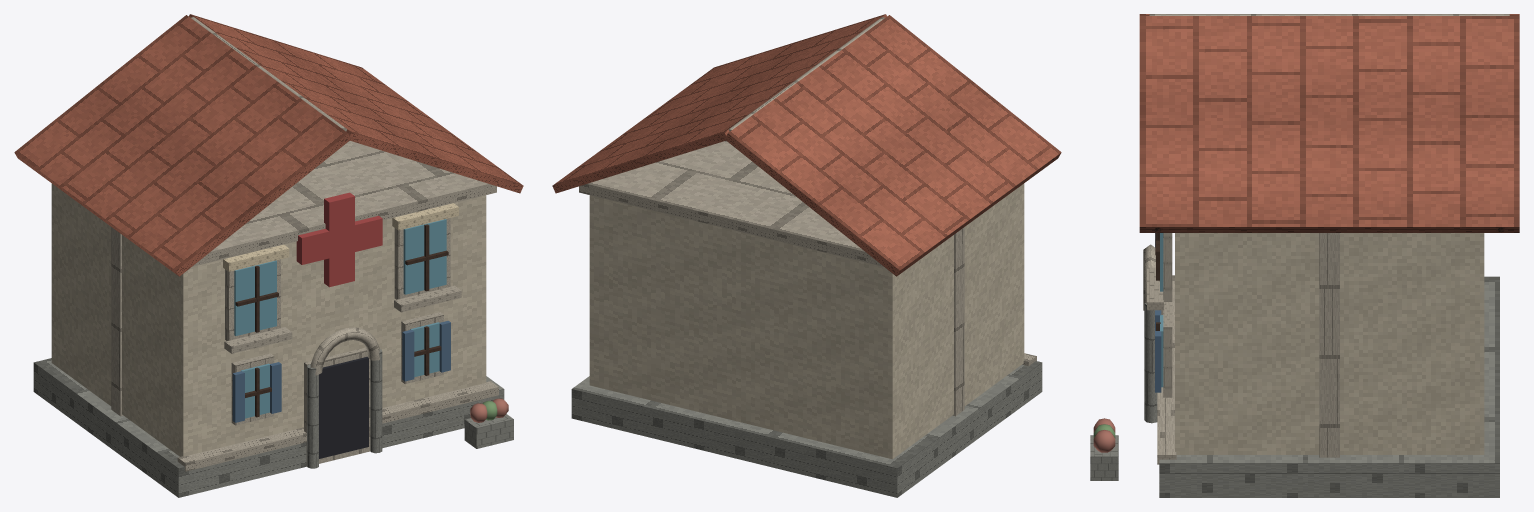
File: procedural_infirmary@4.glb
The picture shows the model from 3 angles, left to right: view 1: azimuth 30°, elevation 25°; view 2: azimuth 150°, elevation 25°; view 3: azimuth 270°, elevation 25°; orthographic projection. The views are drawn at different scales.
Parts seen in each view (by area): view 1: part_8, part_1, part_2, part_0, part_3, part_7, part_9, part_5, part_4, part_6; view 2: part_1, part_8, part_0, part_2; view 3: part_8, part_1, part_0, part_2, part_10, part_5, part_3.
Part boxes in pixels (x1,y1,x2,y2): part_8: (14, 14, 523, 276); part_1: (51, 183, 486, 456); part_2: (111, 17, 498, 471); part_0: (33, 349, 513, 497); part_3: (234, 219, 446, 418); part_7: (319, 356, 368, 458); part_9: (296, 192, 382, 287); part_5: (232, 320, 450, 422); part_4: (171, 224, 448, 417); part_6: (223, 203, 458, 271); part_1: (589, 183, 1024, 459); part_8: (552, 14, 1061, 276); part_0: (571, 361, 1042, 497); part_2: (579, 17, 1036, 416); part_8: (1139, 14, 1519, 232); part_1: (1175, 233, 1484, 454); part_0: (1090, 276, 1499, 497); part_2: (1143, 14, 1509, 464); part_10: (1093, 418, 1115, 452); part_5: (1155, 233, 1161, 392); part_3: (1160, 233, 1163, 387).
Bounding box in the file's own units: 8.38 × 7.64 × 7.62.
Materials: 12 (6 with a texture image).
